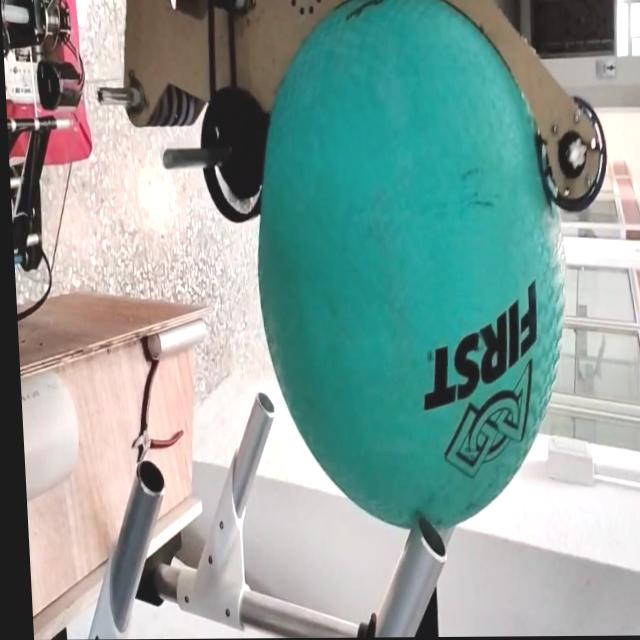ALGAE: (240, 0, 583, 530)
CORAL: (18, 353, 85, 514)
